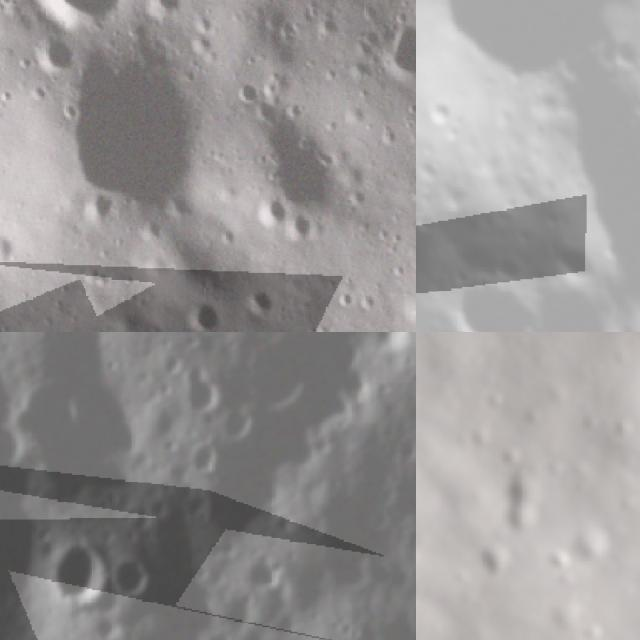crater: (251, 53, 416, 221), (70, 51, 202, 224), (472, 456, 572, 556), (436, 261, 541, 332), (236, 332, 312, 412), (46, 534, 114, 610), (464, 521, 530, 588), (559, 510, 624, 575), (173, 359, 230, 411), (381, 11, 416, 91), (534, 529, 585, 580), (30, 0, 128, 26), (109, 552, 160, 601), (26, 30, 76, 77), (178, 435, 223, 478), (242, 550, 282, 595), (363, 332, 412, 364), (243, 280, 274, 330), (214, 402, 252, 442), (78, 189, 115, 227), (183, 297, 220, 332), (287, 210, 321, 248), (604, 408, 639, 444), (254, 198, 291, 229), (0, 225, 23, 271), (232, 70, 258, 108), (145, 0, 188, 22)
